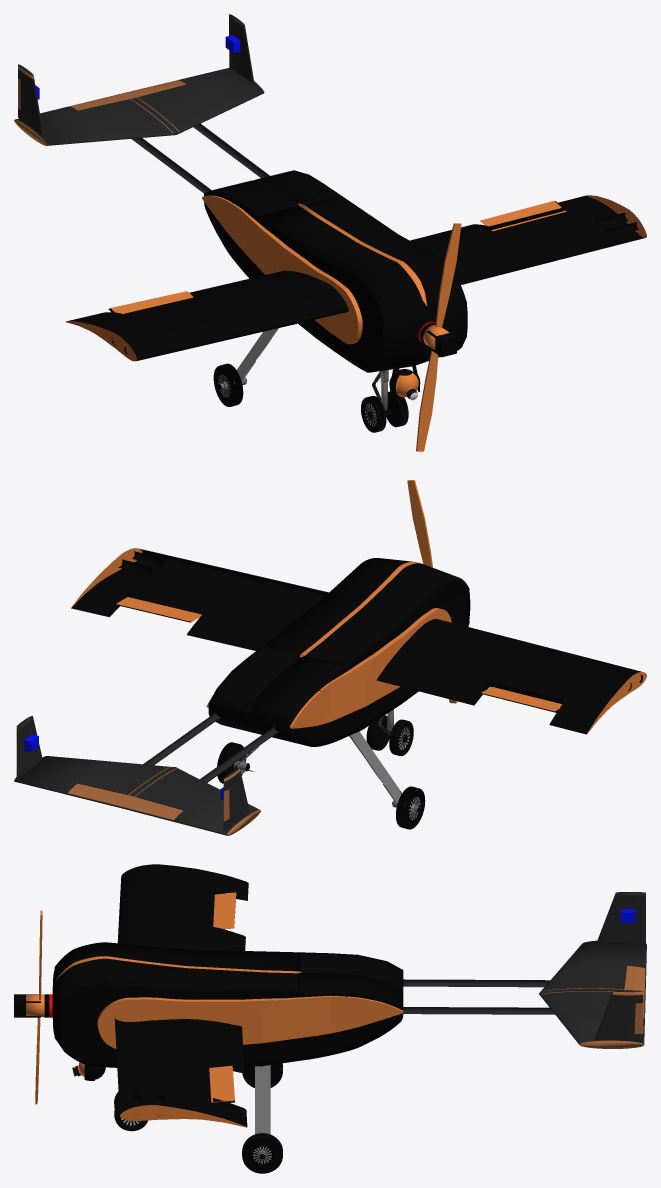
Rendered from UAV1_fin.gltf.
3 views of the same model, one above another, from view 1: azimuth 30°, elevation 25°; view 2: azimuth 150°, elevation 25°; view 3: azimuth 270°, elevation 25° (orthographic). The views are drawn at different scales.
Parts seen in each view (by area): view 1: Cylinder.006, Sphere.001; view 2: Cylinder.006, Sphere.001; view 3: Cylinder.006, Sphere.001.
Part boxes in pixels (bbox=[...]): Cylinder.006: bbox=[14, 14, 646, 432]; Sphere.001: bbox=[416, 223, 461, 451]; Cylinder.006: bbox=[14, 548, 646, 835]; Sphere.001: bbox=[407, 480, 457, 703]; Cylinder.006: bbox=[44, 864, 646, 1173]; Sphere.001: bbox=[26, 910, 44, 1104].
Bounding box in the file's own units: 6.01 × 2.63 × 6.58.
